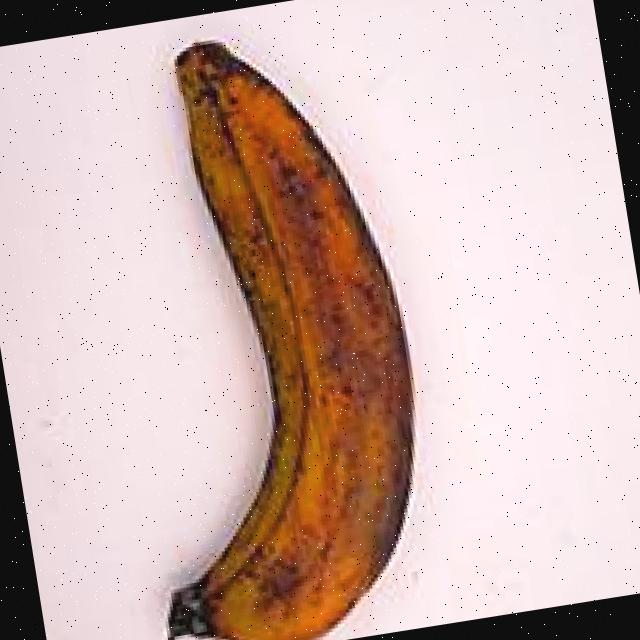Overripe: (44, 0, 478, 640)
